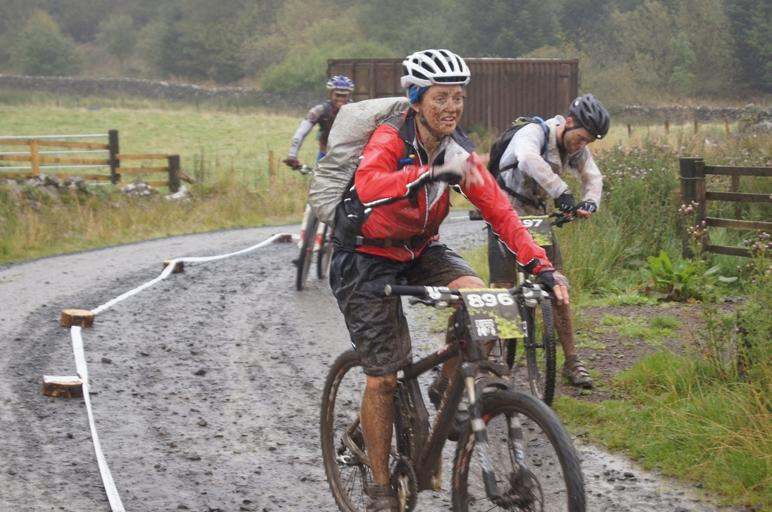non-vehicle: (315, 276, 588, 511), (467, 200, 587, 410), (281, 159, 340, 291)
